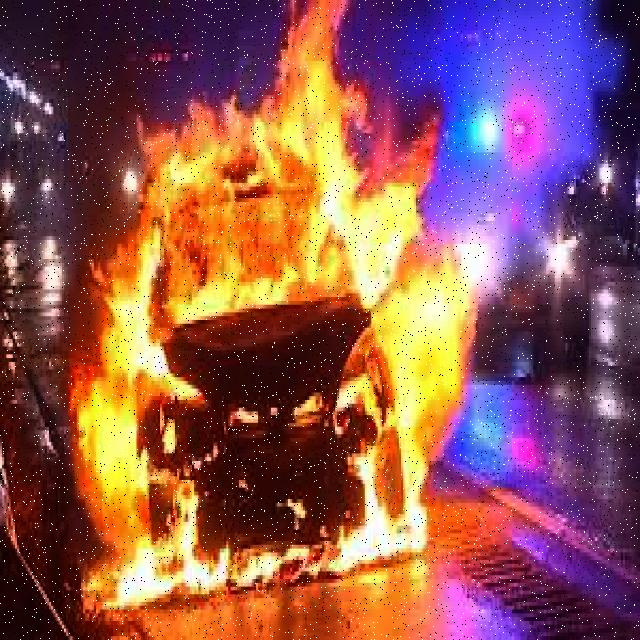fire: (64, 2, 470, 605)
light: (482, 113, 544, 156), (542, 238, 594, 288)
